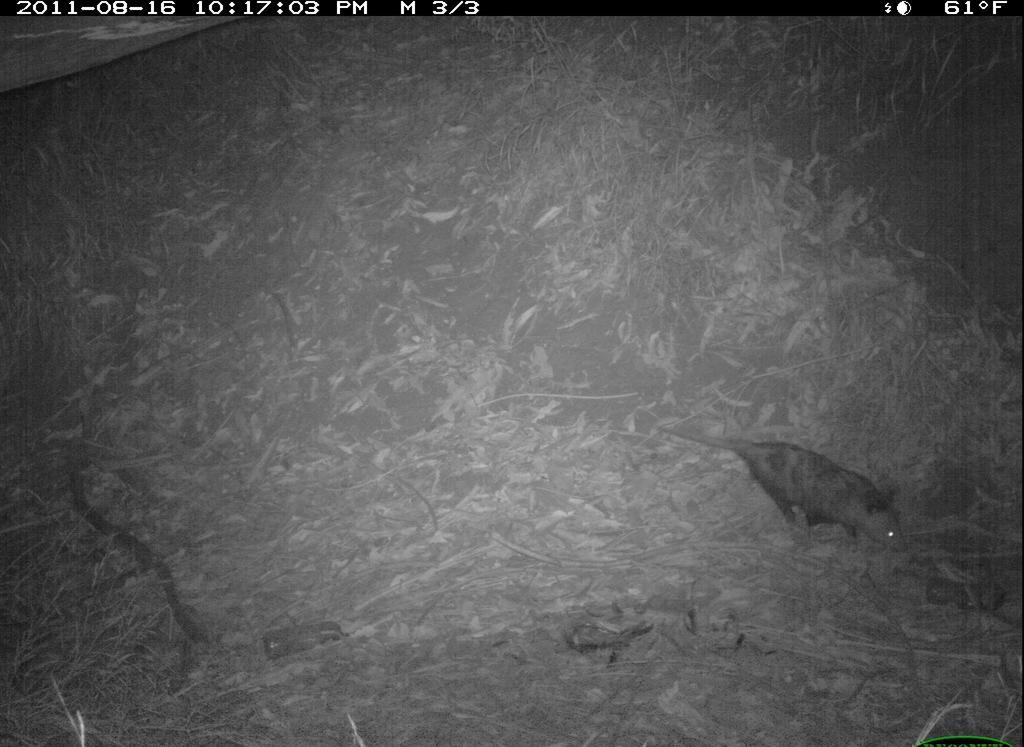opossum: (644, 399, 917, 565)
